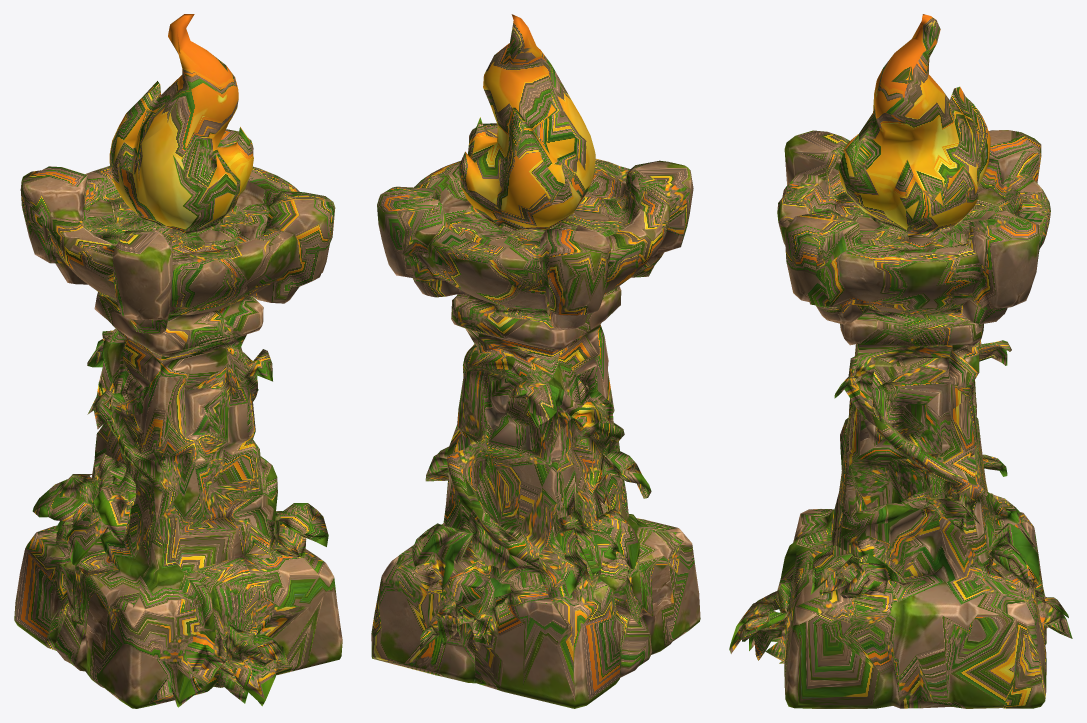
File: jungle_temple_tourch.lod.rt.glb
The picture shows the model from 3 angles, left to right: view 1: azimuth 30°, elevation 25°; view 2: azimuth 150°, elevation 25°; view 3: azimuth 270°, elevation 25°; orthographic projection. The views are drawn at different scales.
Bounding box in the file's own units: 0.7358 × 1.9 × 0.9112.
Materials: 1 (1 with a texture image).
